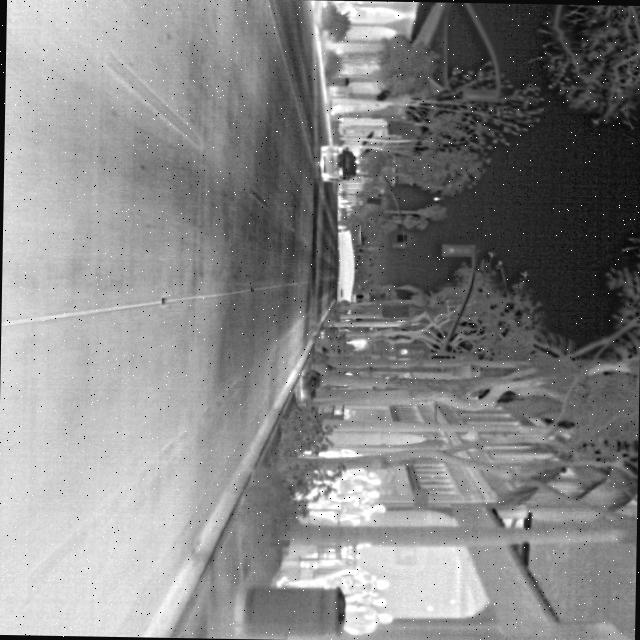Pedestrian: (276, 566, 390, 596), (332, 605, 393, 636), (305, 499, 385, 518), (294, 444, 360, 461), (313, 486, 379, 501), (320, 473, 382, 488), (336, 594, 386, 608)
Vehicle: (316, 142, 357, 184)
